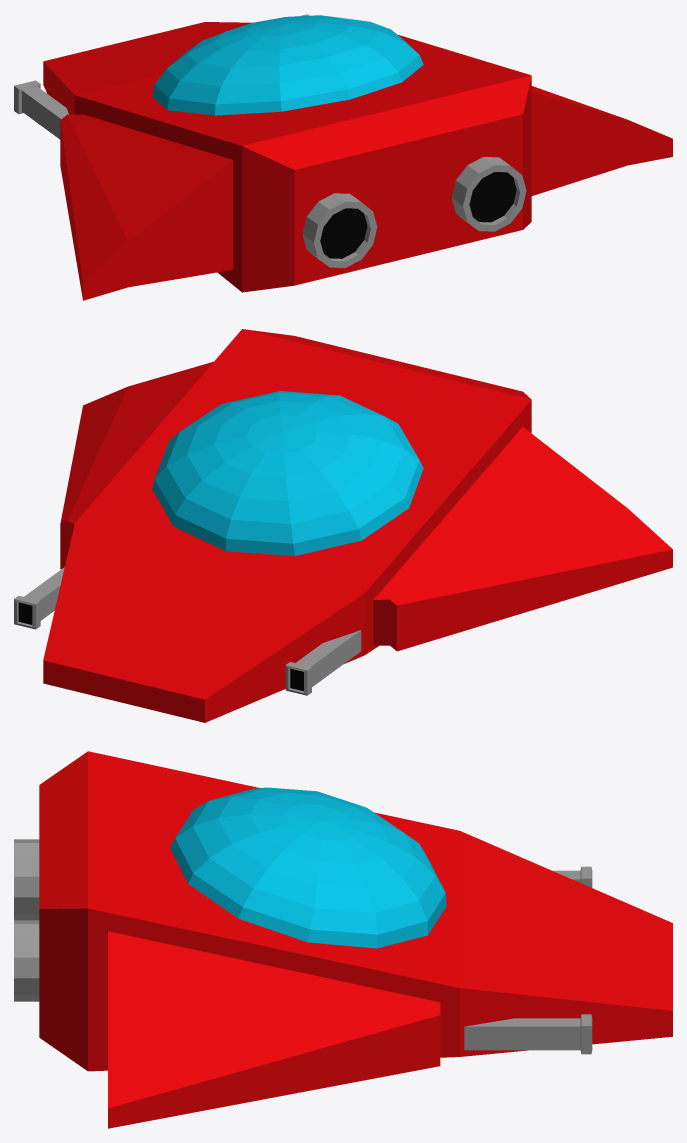
Rendered from PlayerShip.fbx.
3 renders of one model, top to bottom at view 1: azimuth 30°, elevation 25°; view 2: azimuth 150°, elevation 25°; view 3: azimuth 270°, elevation 25°, orthographic. The views are drawn at different scales.
Visible parts, largest first — view 1: PlayerShip; view 2: PlayerShip; view 3: PlayerShip.
Part boxes in pixels (x1,y1,x2,y2): PlayerShip: (14, 14, 672, 300); PlayerShip: (14, 329, 672, 722); PlayerShip: (14, 751, 672, 1128).
Bounding box in the file's own units: 4.79 × 4.16 × 1.25.
